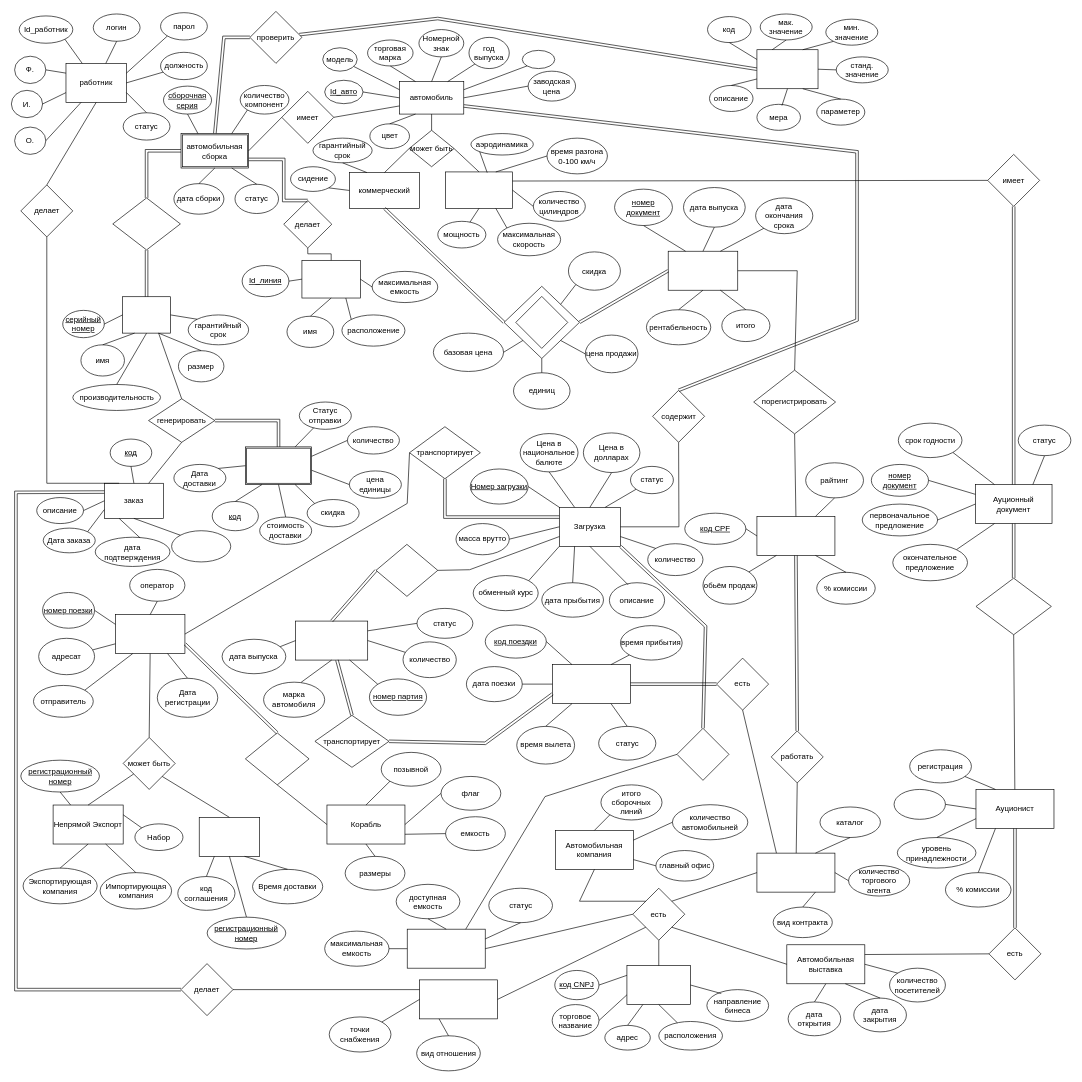
The diagram is 1082 pixels wide and 1082 high, and some of its shapes have lost their labels. Here are the shapes that lost their labels. From the top down, the box of each, then its label:
(522, 50, 555, 69): вес
(756, 49, 818, 89): проверка качества
(445, 171, 513, 208): роскошный
(112, 197, 180, 250): использовать
(301, 260, 360, 298): Сборочная линия
(668, 251, 738, 290): Документ продажа
(122, 296, 171, 333): Автомобиль компонент
(515, 296, 568, 348): указать
(245, 446, 312, 485): детали заказа
(171, 530, 231, 562): уведомление
(756, 516, 835, 555): Торговый агент
(375, 544, 438, 596): организован
(975, 578, 1051, 635): сформулировать
(115, 614, 185, 654): Экспортная поездка
(295, 620, 368, 660): Партия автомобилей
(552, 664, 630, 704): Дистрибьюторская поездка
(245, 732, 309, 785): осуществляет
(676, 728, 729, 780): хранит
(893, 789, 945, 819): номер документа
(199, 817, 260, 856): Прямой экспорт
(756, 852, 835, 892): Дилерский Центр
(407, 929, 485, 968): Склад
(419, 979, 498, 1019): Компания поставщик
(626, 965, 691, 1005): компания
